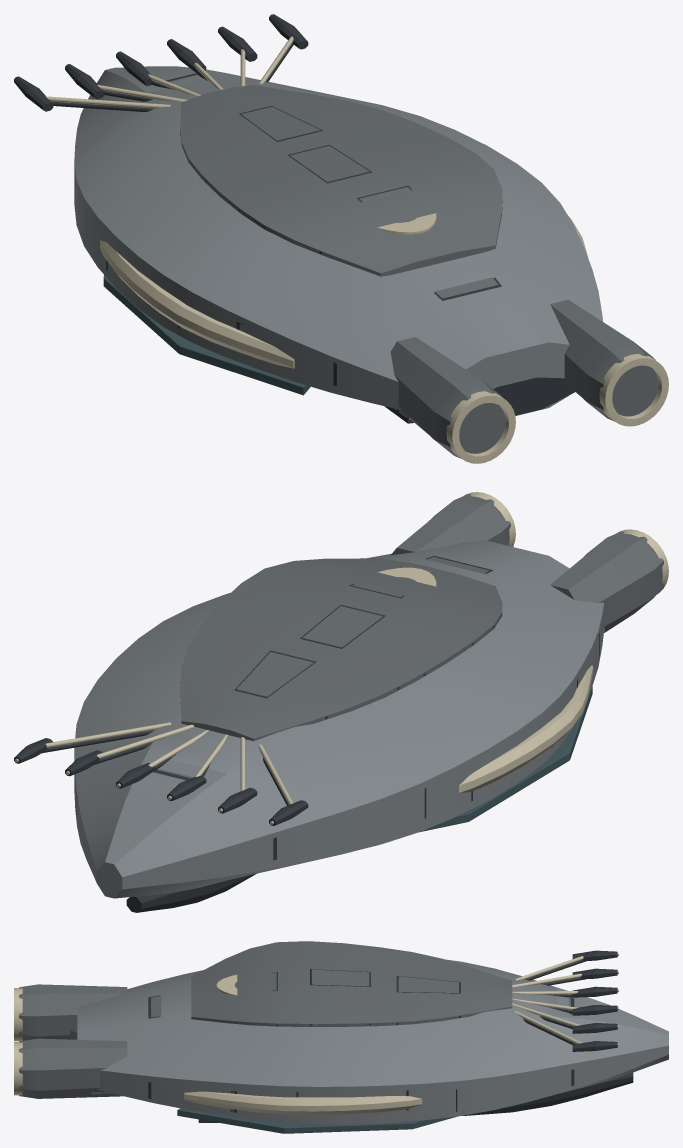
The model's file is battleship_council_aegis.glb.
3 renders of one model, top to bottom at view 1: azimuth 30°, elevation 25°; view 2: azimuth 150°, elevation 25°; view 3: azimuth 270°, elevation 25°, orthographic. The views are drawn at different scales.
Visible parts, largest first — view 1: v4_council_hull, v4_council_secondary, v4_council_trim, v4_council_dark, v4_council_paint; view 2: v4_council_hull, v4_council_secondary, v4_council_trim, v4_council_dark, v4_council_paint; view 3: v4_council_hull, v4_council_secondary, v4_council_trim, v4_council_dark, v4_council_paint.
Part boxes in pixels (box(x1,y1,x2,y2)): v4_council_hull: box(74, 66, 602, 415); v4_council_secondary: box(52, 70, 658, 458); v4_council_trim: box(46, 36, 668, 463); v4_council_dark: box(14, 14, 575, 423); v4_council_paint: box(103, 275, 310, 395); v4_council_hull: box(74, 540, 604, 898); v4_council_secondary: box(53, 494, 663, 778); v4_council_trim: box(15, 492, 668, 824); v4_council_dark: box(14, 556, 599, 912); v4_council_paint: box(419, 686, 592, 832); v4_council_hull: box(77, 959, 668, 1124); v4_council_secondary: box(19, 941, 578, 1111); v4_council_trim: box(14, 953, 618, 1114); v4_council_dark: box(70, 950, 633, 1122); v4_council_paint: box(177, 1108, 457, 1133).
Size of the model in its own units: 103 by 46.14 by 202.
